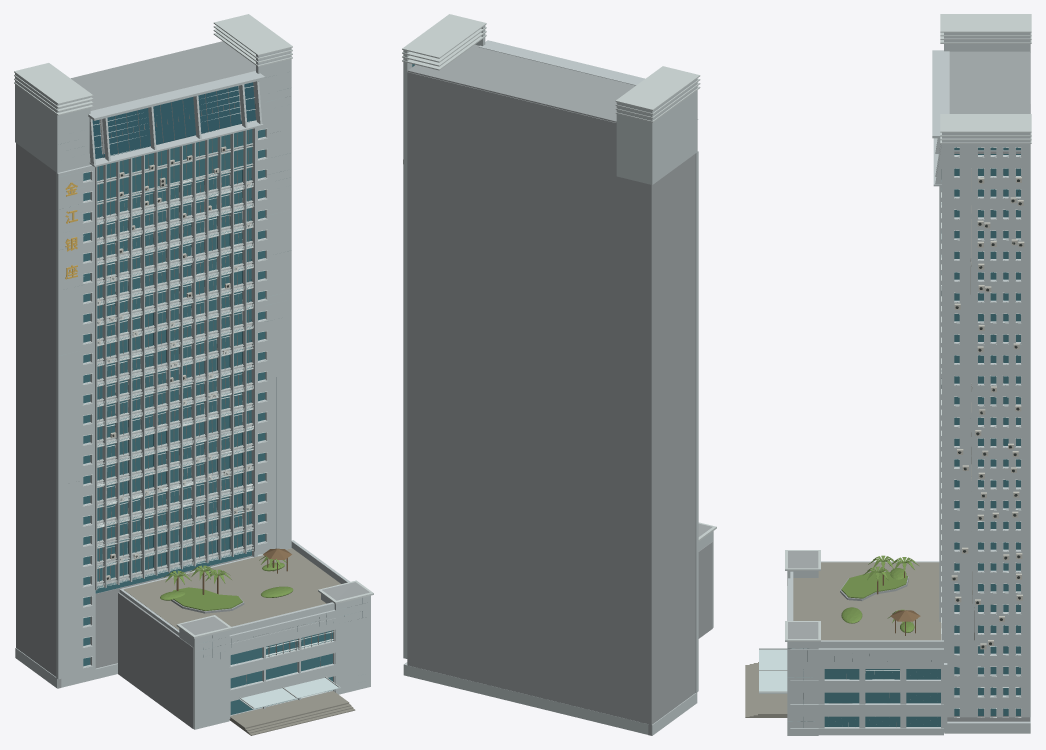
The model's file is light.glb.
3 views of the same model, side by side, from view 1: azimuth 30°, elevation 25°; view 2: azimuth 150°, elevation 25°; view 3: azimuth 270°, elevation 25° (orthographic). The views are drawn at different scales.
Parts seen in each view (by area): view 1: Front endwall panels, Endwall inset glazing, Curved planter rim, Observed canopy diagonal rod, Terrace paving surface, Recessed crown glazing, Curved planted island, S02 E006 cabinet, Entrance canopy; view 2: Curved planter rim, Front endwall panels, Observed canopy diagonal rod; view 3: Front endwall panels, Endwall inset glazing, Terrace paving surface, Observed canopy diagonal rod, Curved planter rim, S02 E006 cabinet, Curved planted island, Entrance canopy.
Boxes of the visible parts, x1,y1,x2,y2 form: Front endwall panels: [15, 48, 370, 729]; Endwall inset glazing: [83, 104, 332, 714]; Curved planter rim: [16, 41, 369, 728]; Observed canopy diagonal rod: [14, 14, 373, 714]; Terrace paving surface: [123, 548, 355, 735]; Recessed crown glazing: [92, 82, 255, 158]; Curved planted island: [160, 555, 293, 610]; S02 E006 cabinet: [97, 146, 251, 580]; Entrance canopy: [239, 678, 340, 709]; Curved planter rim: [407, 44, 712, 735]; Front endwall panels: [403, 25, 713, 735]; Observed canopy diagonal rod: [402, 14, 716, 541]; Front endwall panels: [787, 32, 1030, 735]; Endwall inset glazing: [824, 147, 1020, 726]; Terrace paving surface: [745, 562, 941, 717]; Observed canopy diagonal rod: [759, 14, 1031, 726]; Curved planter rim: [788, 51, 1030, 721]; S02 E006 cabinet: [951, 168, 1024, 649]; Curved planted island: [841, 555, 918, 632]; Entrance canopy: [759, 649, 787, 693].
Bounding box in the file's own units: 30.87 × 72.12 × 31.03.
